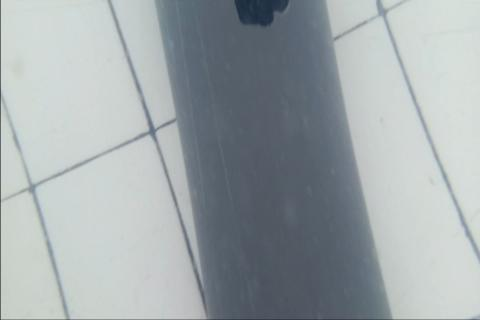kebocoran: (234, 0, 290, 28)
